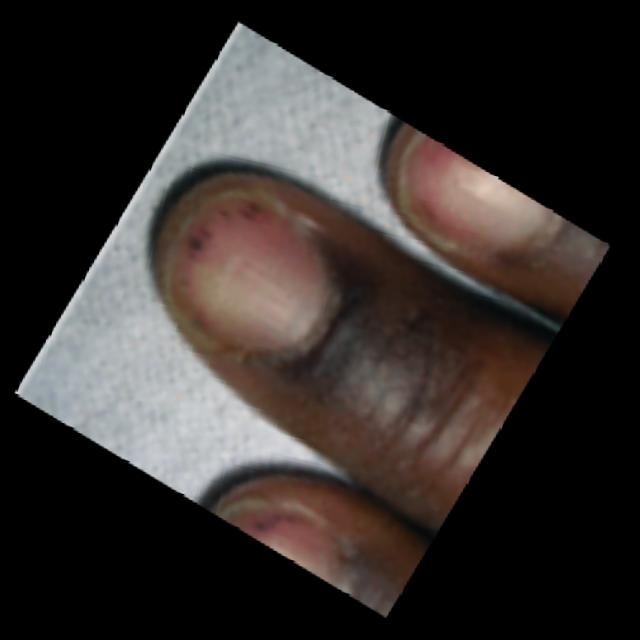Nail: (167, 192, 326, 355), (398, 137, 561, 248)
